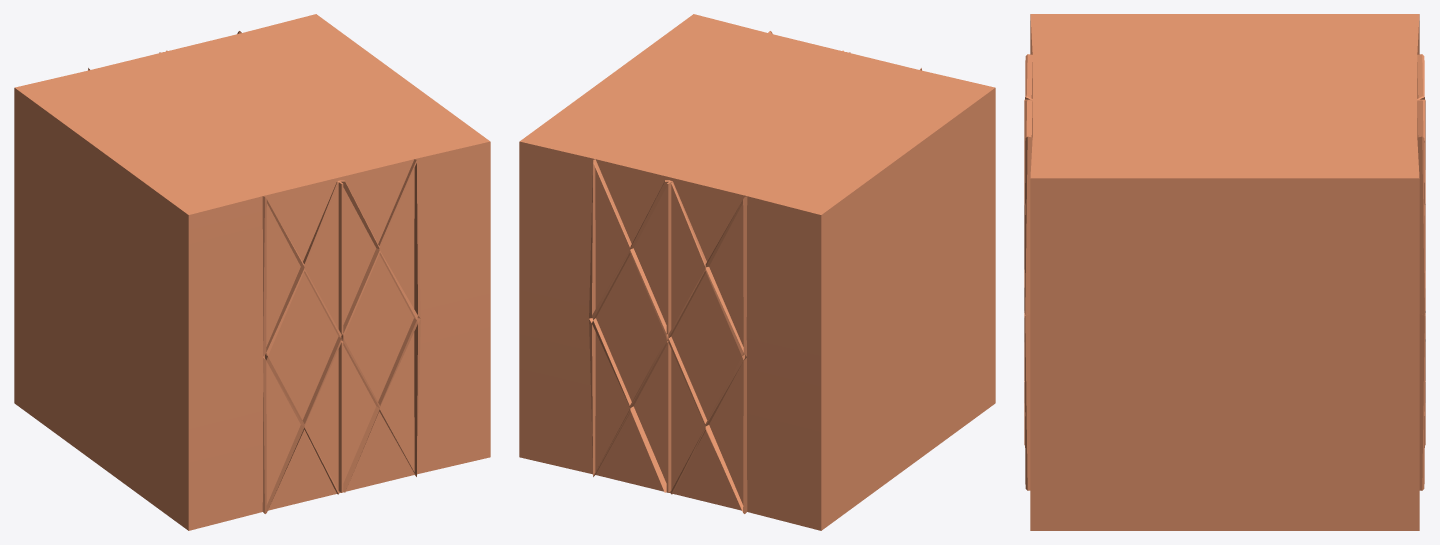
The model's file is moxies.glb.
The picture shows the model from 3 angles, left to right: view 1: azimuth 30°, elevation 25°; view 2: azimuth 150°, elevation 25°; view 3: azimuth 270°, elevation 25°; orthographic projection. The views are drawn at different scales.
Visible parts, largest first — view 1: pCube102; view 2: pCube102; view 3: pCube102.
Part boxes in pixels (x1,y1,x2,y2): pCube102: (14,14,490,530); pCube102: (519,14,995,530); pCube102: (1024,14,1425,530).
Size of the model in its own units: 0.0358 by 0.036 by 0.037.
